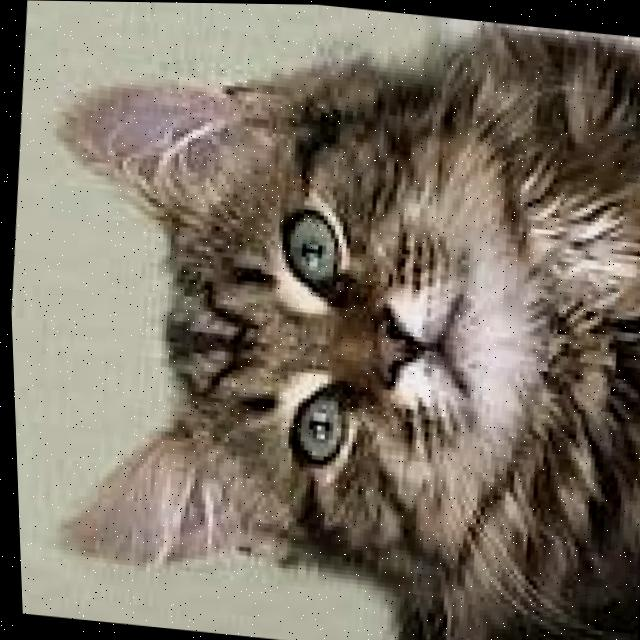Maine Coon: (5, 0, 640, 640)
